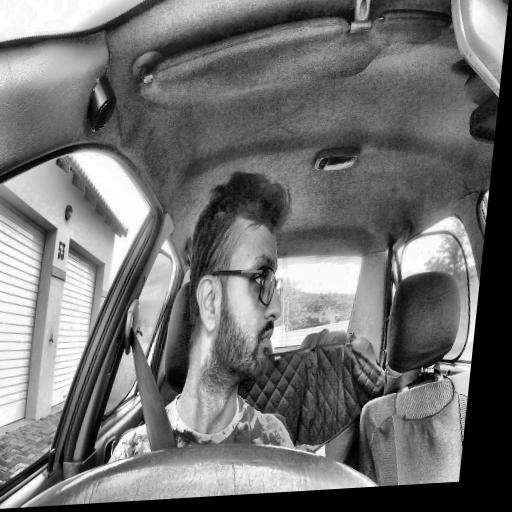awake: (176, 166, 297, 393)
